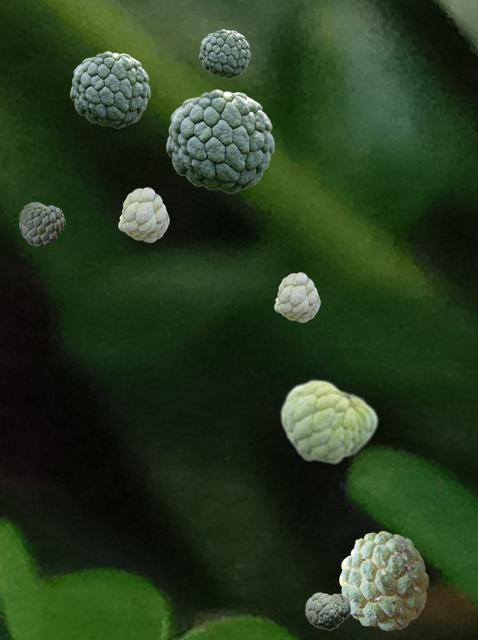atis: (166, 89, 273, 192), (339, 531, 427, 629), (279, 378, 377, 464), (70, 51, 149, 127), (118, 187, 168, 241), (199, 29, 249, 77), (274, 272, 319, 321), (19, 202, 64, 245), (305, 592, 350, 629)
